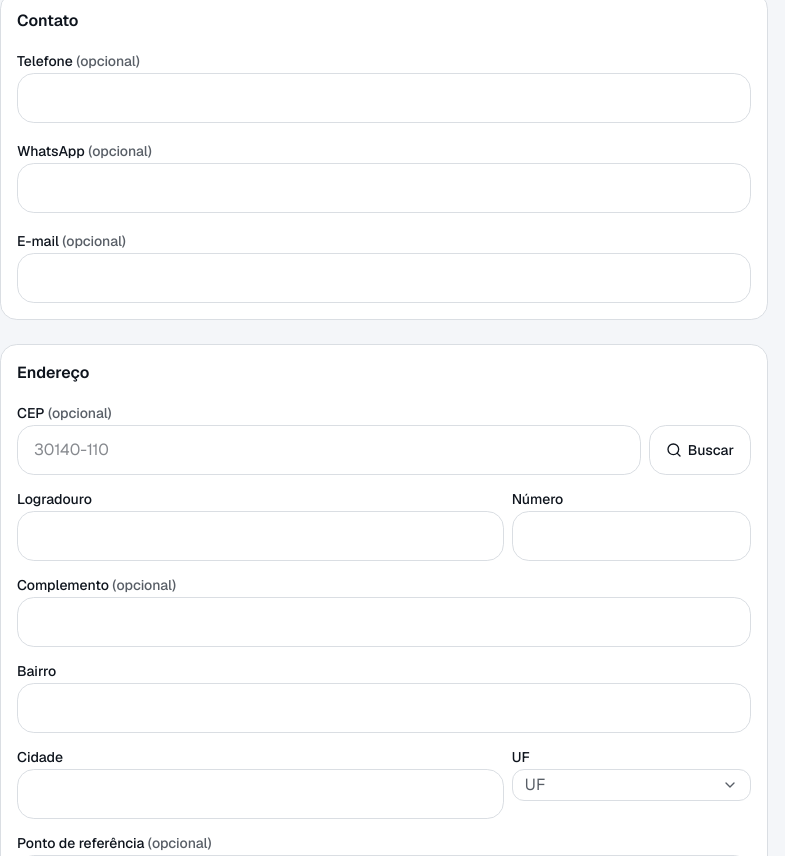
Test case: CompanyProfilePage CEP lookup (FRONTEND-COMPANY-PROFILE-01 §55 CE1-CE8) › CE1: a valid CEP lookup succeeds
The width and height of the screenshot is (785, 856).
(page scrolled)
Type "01001000" into the field labelled "CEP (opcional)" at point(329, 450), box [17,425,641,475]
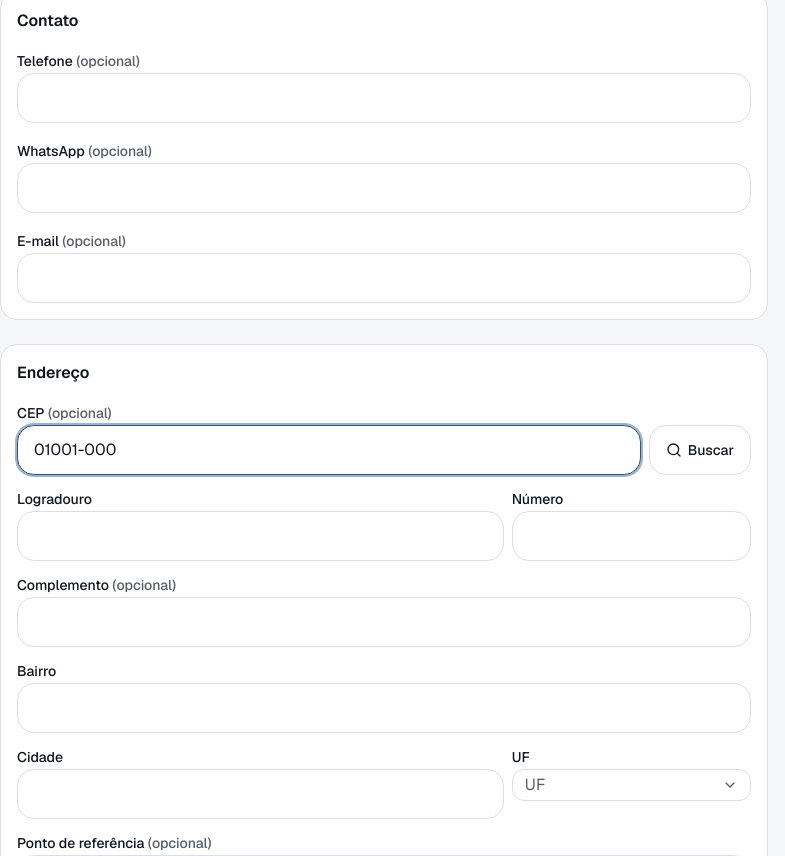
Click the button with aria-label "Buscar CEP" at point(700, 450), box [649,425,751,475]
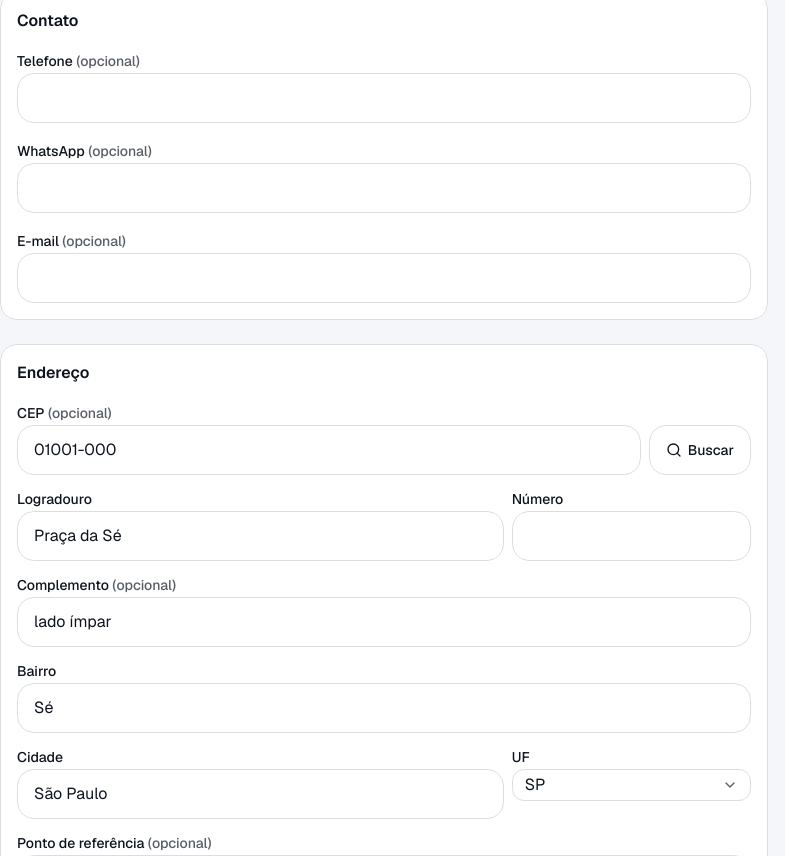
Now the field labelled "Logradouro" holds "Praça da Sé", box [17,511,504,561]
